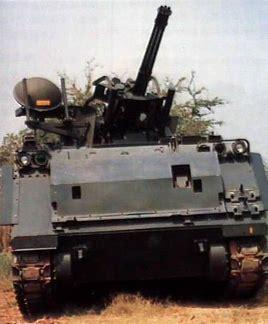MIL_SPG: (1, 6, 267, 314)
